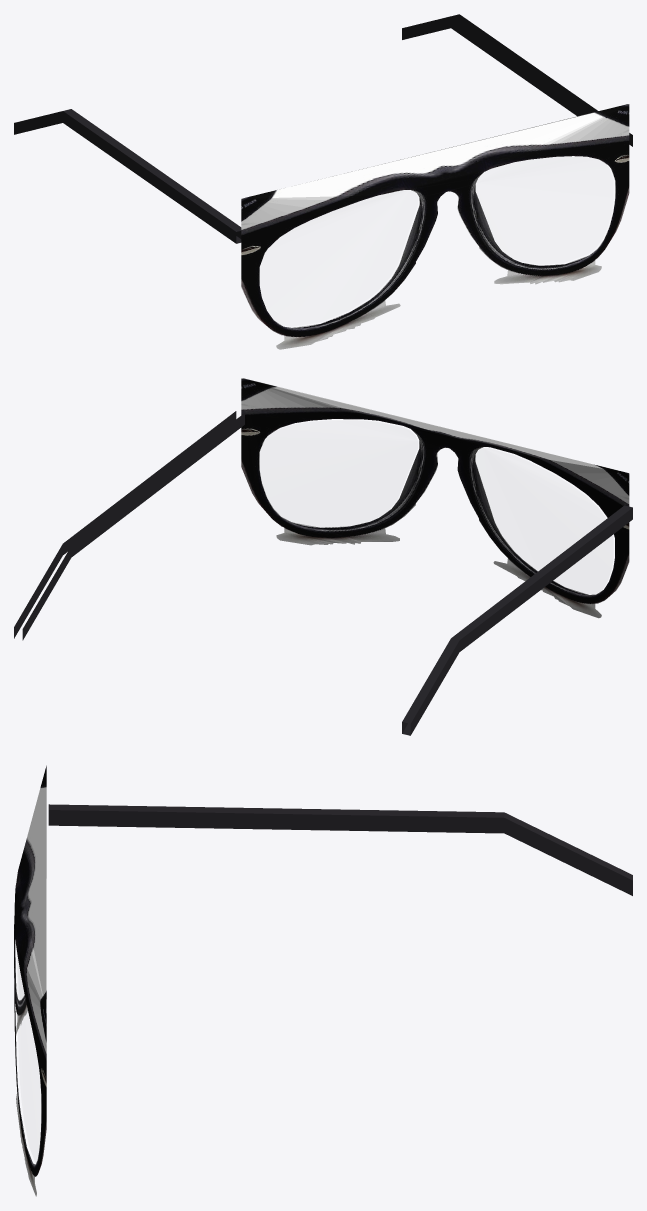
File: gothamstyle-matte-collection-252_matte-black.glb
The picture shows the model from 3 angles, top to bottom: view 1: azimuth 30°, elevation 25°; view 2: azimuth 150°, elevation 25°; view 3: azimuth 270°, elevation 25°; orthographic projection. The views are drawn at different scales.
Visible parts, largest first — view 1: frame_front, temple_viewer_left, temple_viewer_right; view 2: frame_front, temple_viewer_left, temple_viewer_right; view 3: temple_viewer_left, frame_front.
Part boxes in pixels (x1,y1,x2,y2): frame_front: (241, 104, 629, 349); temple_viewer_left: (14, 109, 241, 243); temple_viewer_right: (402, 14, 632, 146); frame_front: (241, 378, 629, 618); temple_viewer_left: (402, 505, 632, 735); temple_viewer_right: (14, 411, 244, 640); temple_viewer_left: (48, 804, 632, 895); frame_front: (14, 765, 46, 1196).
Size of the model in its own units: 0.1391 by 0.0527 by 0.143.
3 materials, 2 textured.
